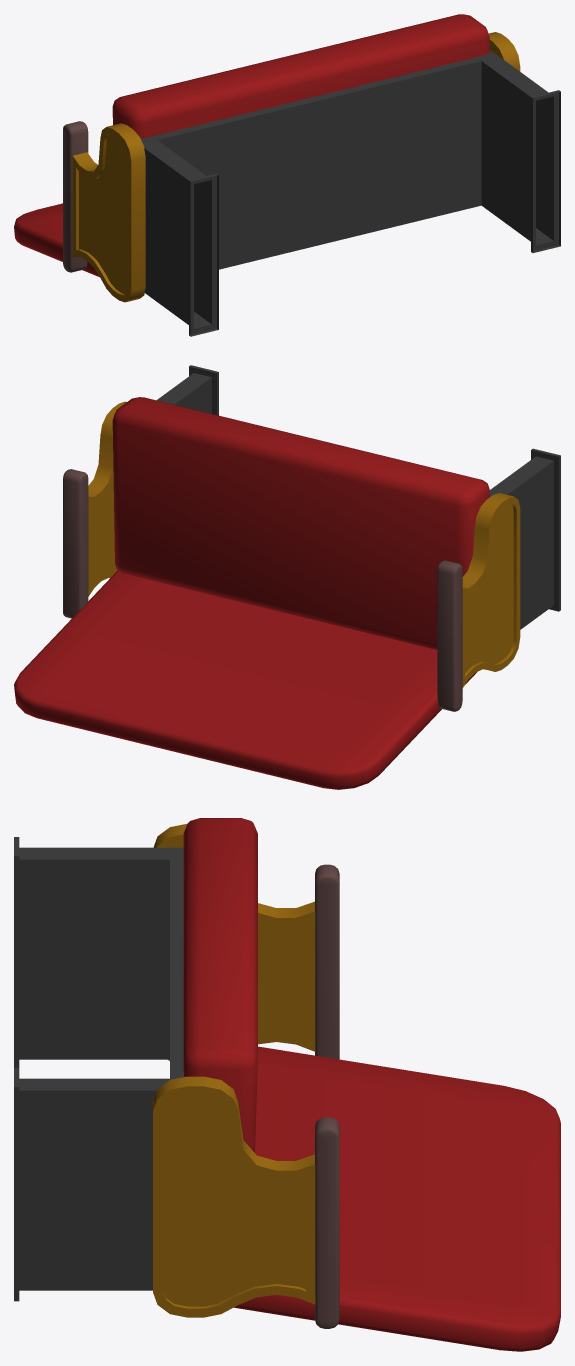
The model's file is PassengerSeat_01.fbx.
3 renders of one model, top to bottom at view 1: azimuth 30°, elevation 25°; view 2: azimuth 150°, elevation 25°; view 3: azimuth 270°, elevation 25°, orthographic. The views are drawn at different scales.
Visible parts, largest first — view 1: PassengerSeat_01; view 2: PassengerSeat_01; view 3: PassengerSeat_01.
Boxes of the visible parts, x1,y1,x2,y2 form: PassengerSeat_01: [14, 14, 560, 336]; PassengerSeat_01: [14, 365, 560, 789]; PassengerSeat_01: [14, 818, 560, 1351].
Bounding box in the file's own units: 1.34 × 0.7222 × 1.17.
